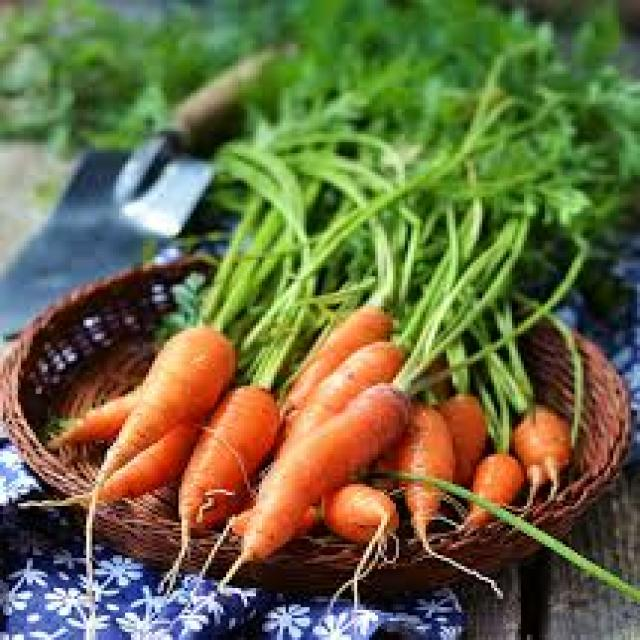organic waste: (262, 0, 637, 383), (78, 320, 230, 637), (200, 104, 334, 380), (220, 378, 408, 572), (167, 378, 277, 582), (0, 3, 131, 145), (15, 413, 190, 506), (113, 2, 268, 106), (274, 298, 384, 443), (274, 331, 405, 435), (393, 386, 455, 555), (315, 476, 399, 563), (455, 451, 524, 536), (435, 383, 488, 489), (512, 408, 569, 506), (42, 386, 128, 440), (366, 429, 420, 504)
